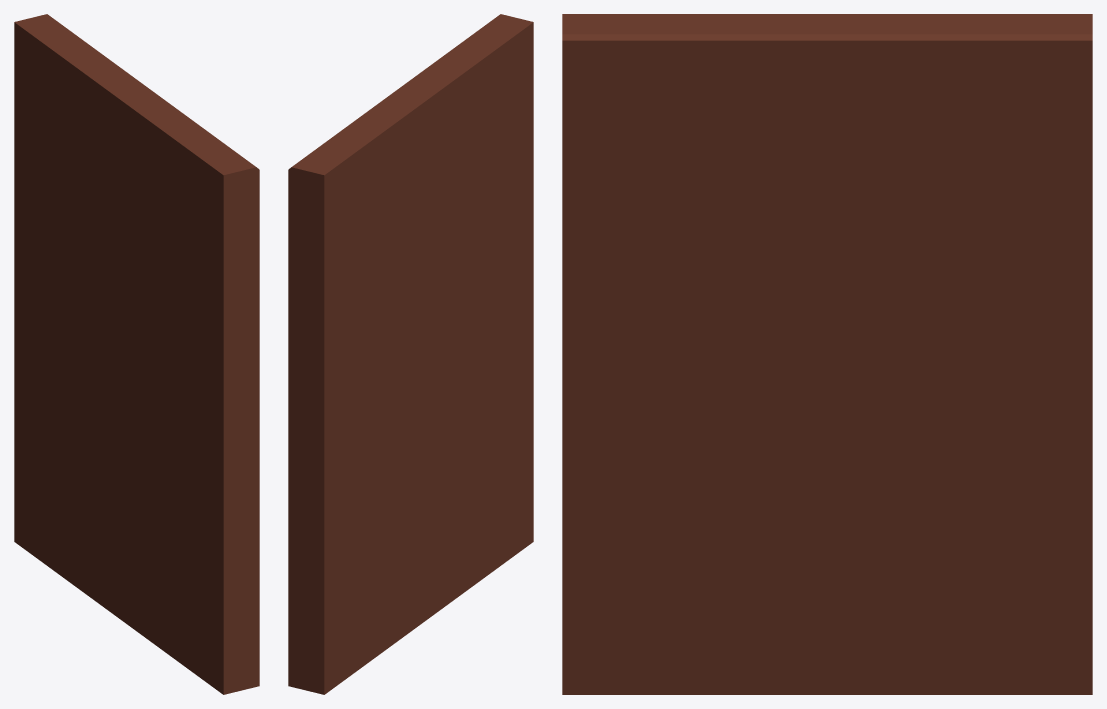
The model's file is brick_wall.gltf.
3 views of the same model, side by side, from view 1: azimuth 30°, elevation 25°; view 2: azimuth 150°, elevation 25°; view 3: azimuth 270°, elevation 25° (orthographic). The views are drawn at different scales.
Visible parts, largest first — view 1: brick wall; view 2: brick wall; view 3: brick wall.
Boxes of the visible parts, x1,y1,x2,y2 form: brick wall: [14, 14, 259, 694]; brick wall: [288, 14, 533, 694]; brick wall: [562, 14, 1092, 694].
Size of the model in its own units: 0.2 by 2.74 by 2.
